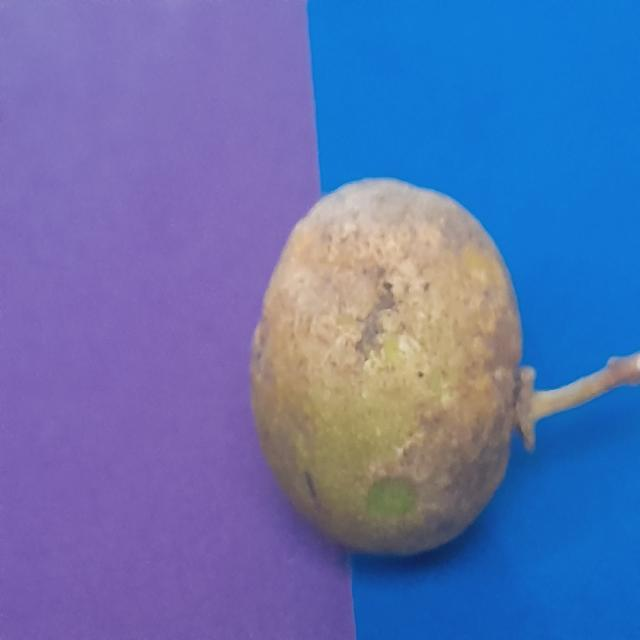thrips: (251, 169, 546, 593)
